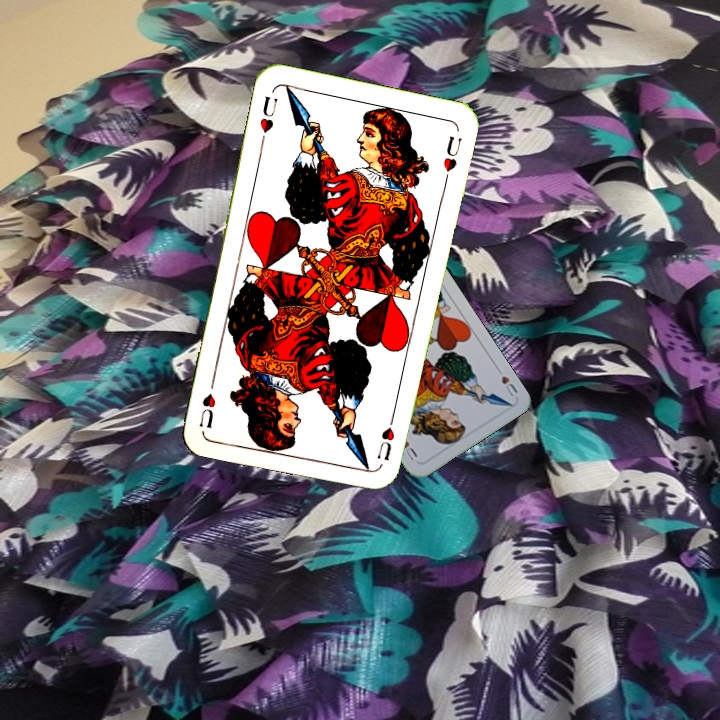HU: (255, 91, 281, 146), (492, 363, 521, 401), (373, 423, 397, 464)
